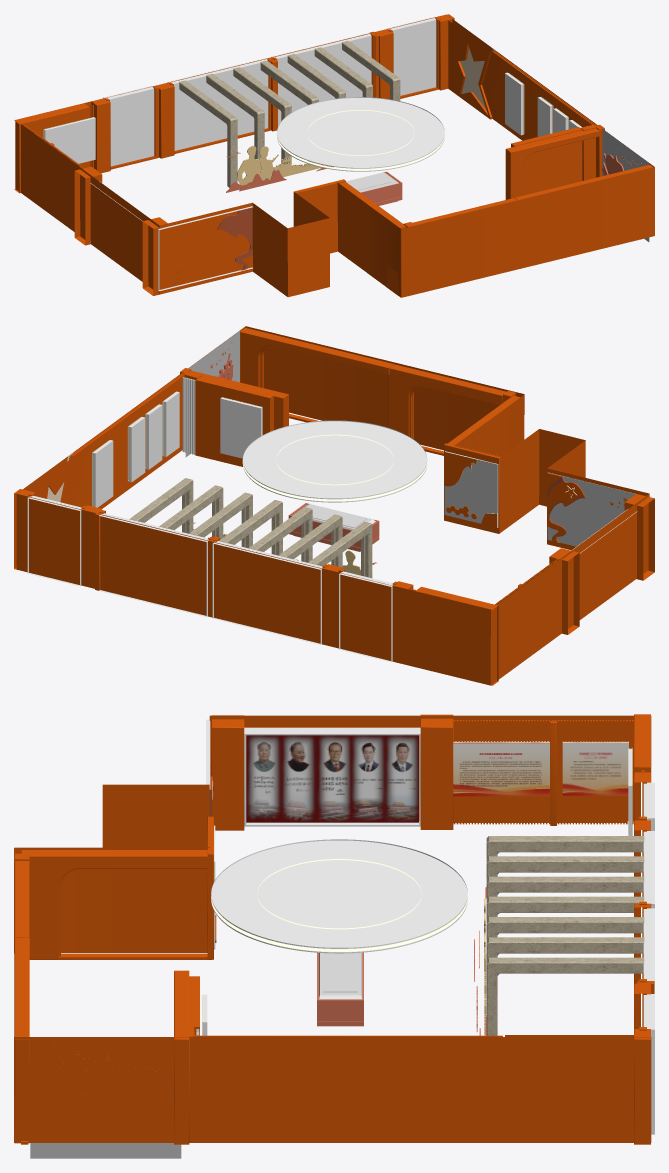
The picture shows the model from 3 angles, top to bottom: view 1: azimuth 30°, elevation 25°; view 2: azimuth 150°, elevation 25°; view 3: azimuth 270°, elevation 25°; orthographic projection. The views are drawn at different scales.
Parts seen in each view (by area): view 1: 外墙, 立方体_13, lamp, 柱子走廊, 立方体_7, Wall3, 立方体_8, 挤压_7_2, 立方体_3_2, 立方体_5, 展柜, 立方体_3_3 (+13 smaller); view 2: 外墙, lamp, 柱子走廊, Wall3, 立方体_13, 立方体_8, 立方体_7, Obj3d66_4752274_70_747, 挤压_6, 挤压_4_2, Obj3d66_4751371_76_648, 立方体_10_2 (+11 smaller); view 3: 外墙, lamp, 柱子走廊, Screen, 立方体_7, 立方体_2_1_2, 挤压_5_2, 立方体_14, 立方体_13, 立方体_15, 展柜, 挤压_4_2 (+9 smaller).
Part boxes in pixels (<box>): 外墙: <box>15,14,654,297</box>; 立方体_13: <box>14,17,436,193</box>; lamp: <box>277,97,444,171</box>; 柱子走廊: <box>179,40,400,187</box>; 立方体_7: <box>74,14,454,295</box>; Wall3: <box>448,20,596,140</box>; 立方体_8: <box>511,127,582,195</box>; 挤压_7_2: <box>505,128,599,199</box>; 立方体_3_2: <box>44,117,95,163</box>; 立方体_5: <box>293,179,345,253</box>; 展柜: <box>346,171,402,205</box>; 立方体_3_3: <box>505,72,523,135</box>; 外墙: <box>16,326,649,685</box>; lamp: <box>242,420,427,502</box>; 柱子走廊: <box>129,478,372,578</box>; Wall3: <box>28,373,185,508</box>; 立方体_13: <box>27,495,498,685</box>; 立方体_8: <box>195,377,273,466</box>; 立方体_7: <box>14,489,654,634</box>; Obj3d66_4752274_70_747: <box>547,472,651,546</box>; 挤压_6: <box>389,364,506,438</box>; 挤压_4_2: <box>240,328,394,388</box>; Obj3d66_4751371_76_648: <box>444,451,498,527</box>; 立方体_10_2: <box>220,397,262,458</box>; 外墙: <box>14,715,651,1142</box>; lamp: <box>211,839,467,953</box>; 柱子走廊: <box>486,836,644,1035</box>; Screen: <box>246,735,418,822</box>; 立方体_7: <box>211,714,650,1144</box>; 立方体_2_1_2: <box>452,720,644,824</box>; 挤压_5_2: <box>21,850,209,959</box>; 立方体_14: <box>453,741,549,796</box>; 立方体_13: <box>634,714,654,1134</box>; 立方体_15: <box>562,741,628,795</box>; 展柜: <box>317,952,363,1026</box>; 挤压_4_2: <box>14,938,29,1143</box>.
Size of the model in its own units: 1436 by 256 by 1186.
